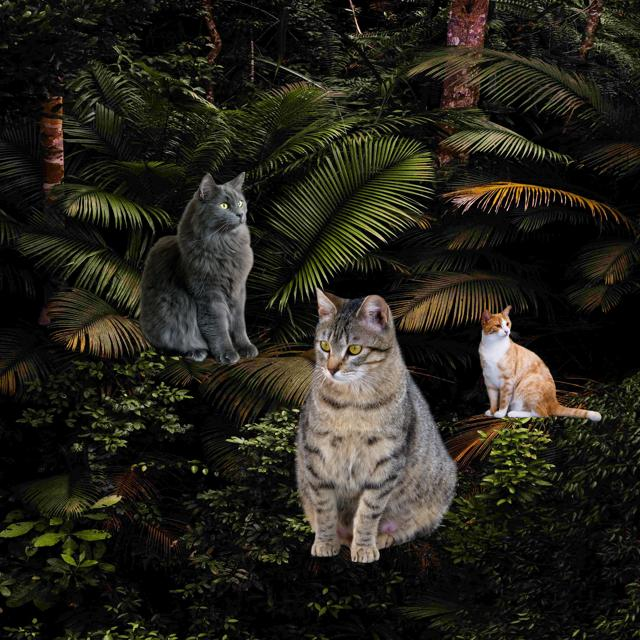cat: (288, 280, 464, 569), (137, 170, 261, 366), (473, 302, 607, 425)
